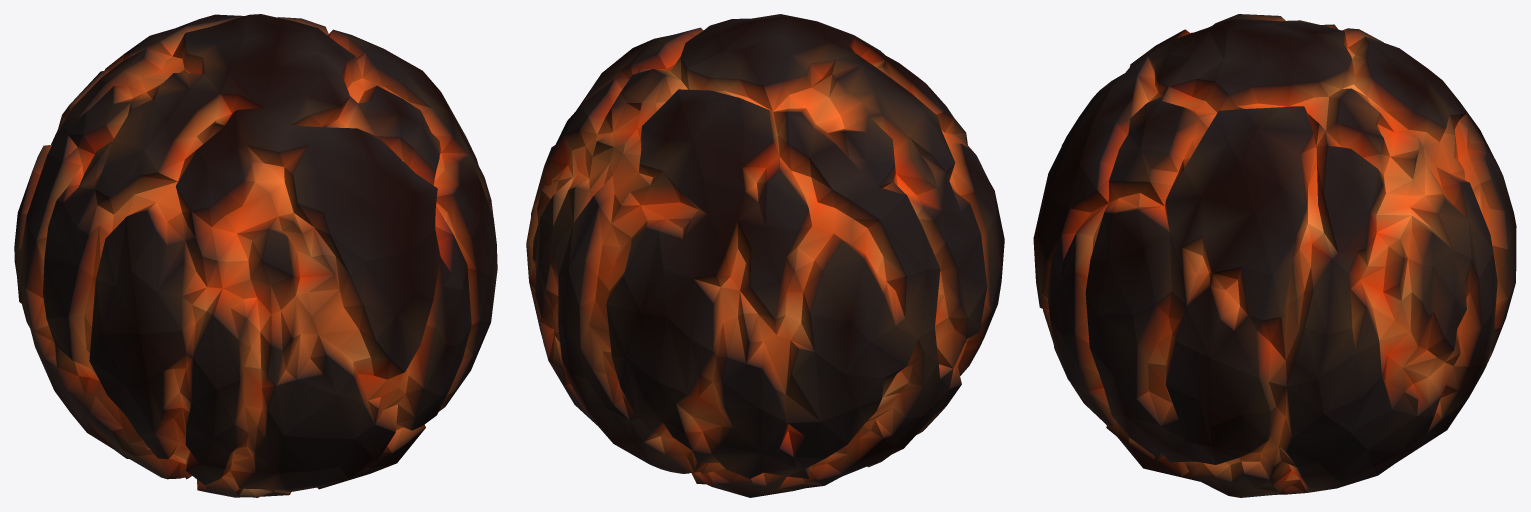
File: barren_2.fbx
3 renders of one model, left to right at view 1: azimuth 30°, elevation 25°; view 2: azimuth 150°, elevation 25°; view 3: azimuth 270°, elevation 25°, orthographic.
Parts seen in each view (by area): view 1: filecache1; view 2: filecache1; view 3: filecache1.
Boxes of the visible parts, bbox=[...] form: filecache1: bbox=[14, 14, 497, 497]; filecache1: bbox=[526, 14, 1004, 497]; filecache1: bbox=[1033, 14, 1516, 497].
Size of the model in its own units: 2.16 by 2.2 by 2.16.
